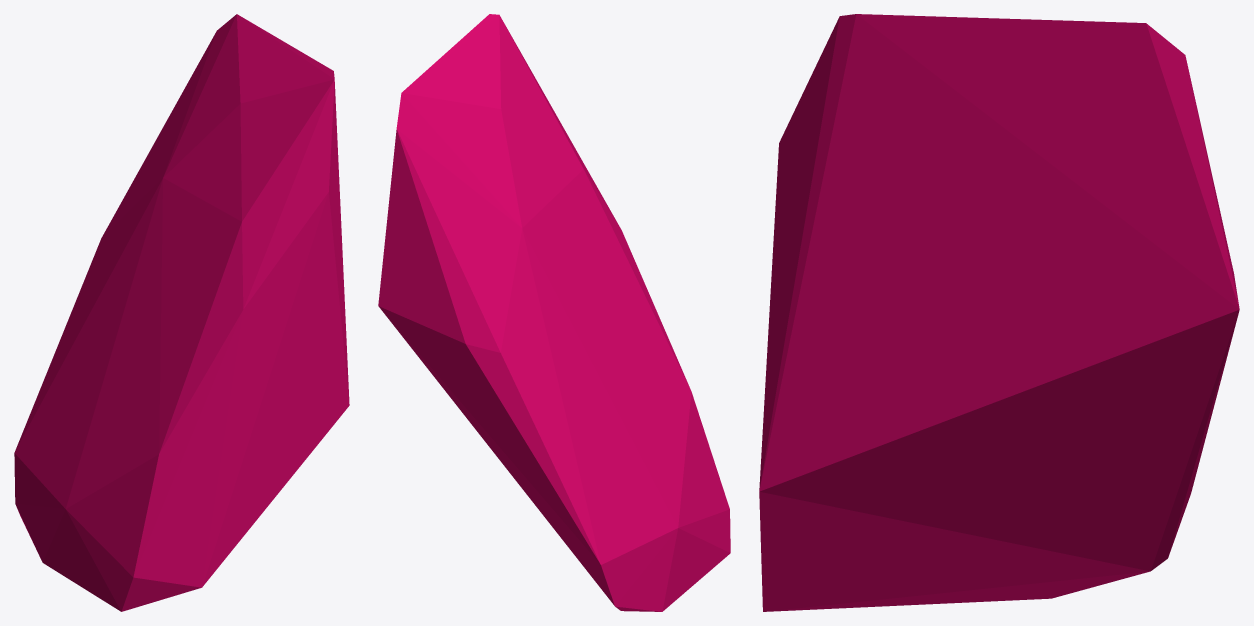
Rendered from shin_convex_piece_002.obj.
3 renders of one model, left to right at view 1: azimuth 30°, elevation 25°; view 2: azimuth 150°, elevation 25°; view 3: azimuth 270°, elevation 25°, orthographic. The views are drawn at different scales.
Bounding box in the file's own units: 0.0555 × 0.111 × 0.0634.
